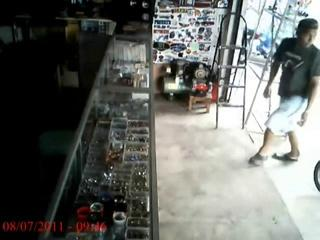Normal: (248, 18, 320, 167)
